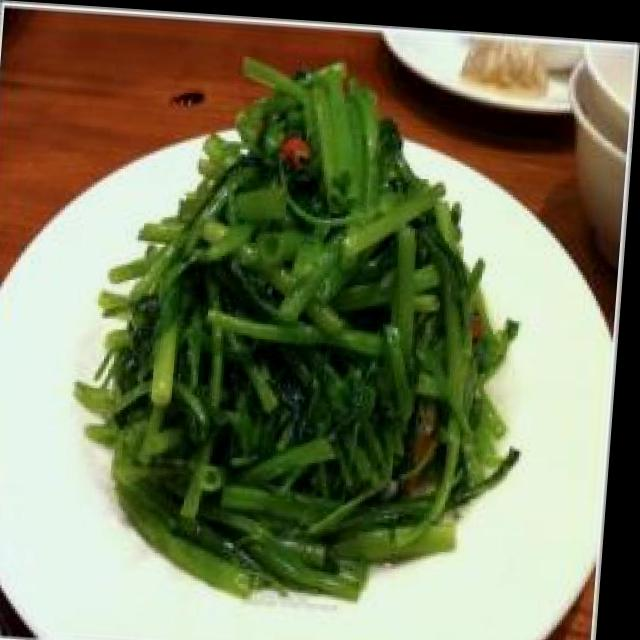water_spinach: (148, 147, 473, 546)
